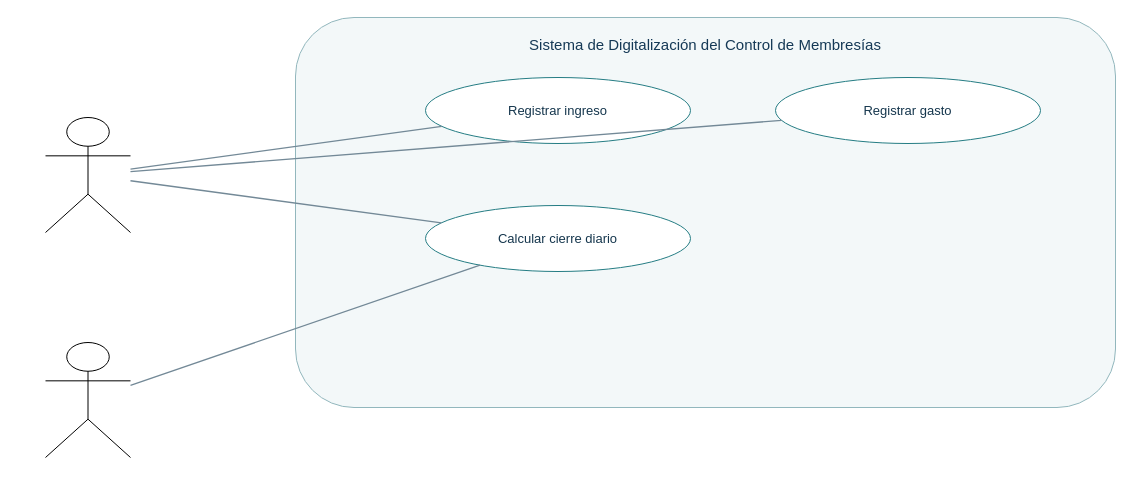
This 1133x496 diagram has some shape labels left out. The shapes that lost their labels are listed below. From the top down, each one's centre as x and y in pixels, then its label:
(87,174): Recepcionista
(87,400): Administrador / propietario
